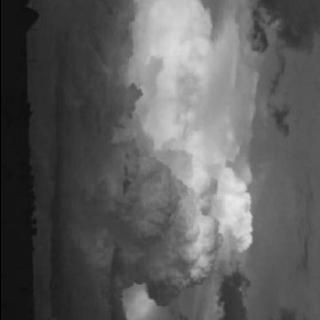Cumulonimbus: (40, 0, 270, 320)
